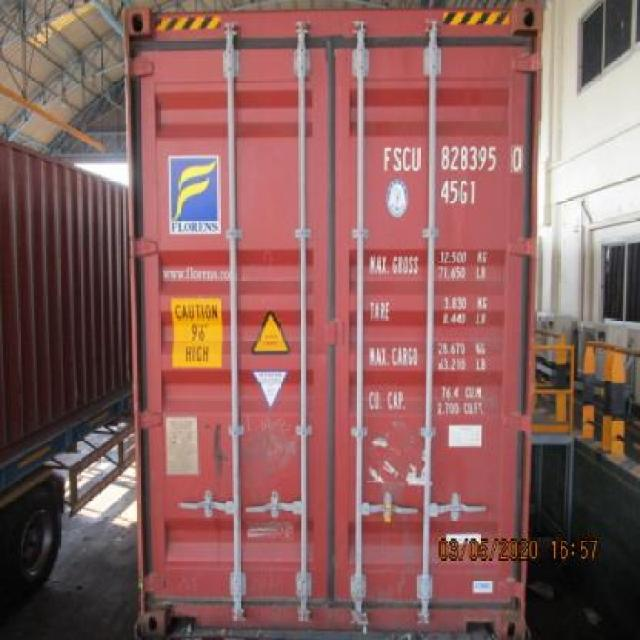ISO: (440, 176, 478, 203)
container_number: (383, 143, 521, 173)
